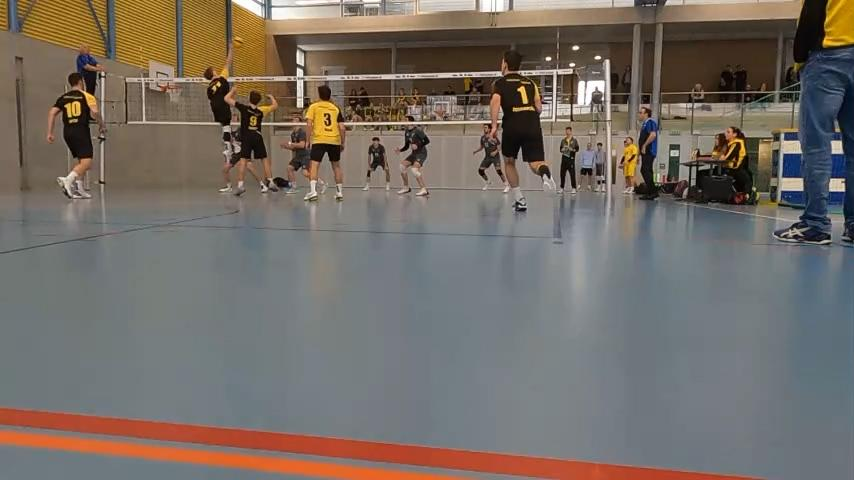Attack: (202, 40, 243, 166)
Player: (490, 50, 555, 211), (47, 73, 104, 198), (225, 88, 277, 195), (304, 85, 345, 200), (395, 116, 429, 195), (473, 124, 509, 193), (282, 114, 309, 193), (219, 114, 240, 192), (363, 137, 390, 190)
ball: (232, 35, 244, 49)
